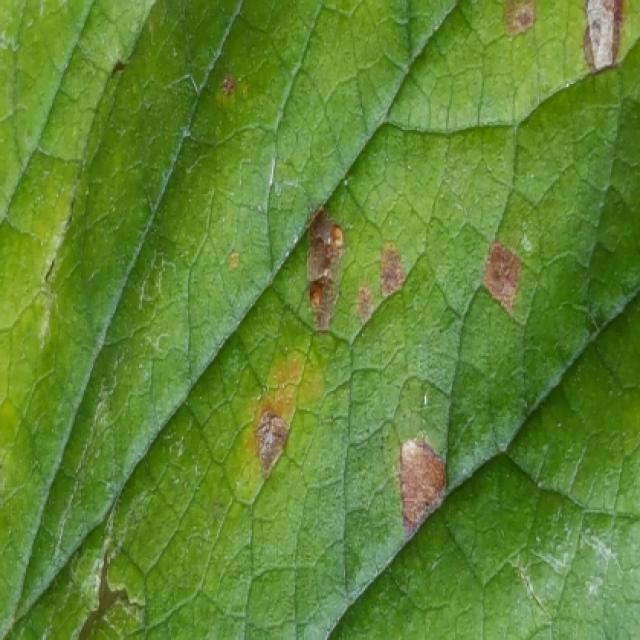Angular Leafspot: (207, 0, 638, 554)
